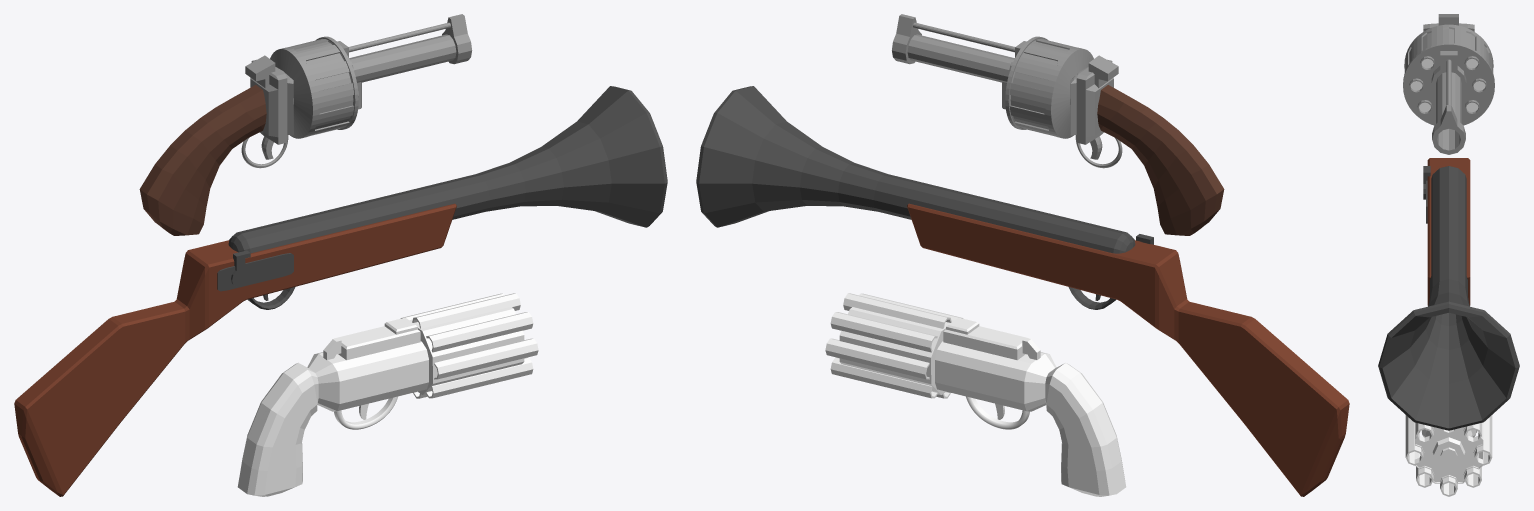
Rendered from antique-antique-firearms-set.glb.
3 views of the same model, side by side, from view 1: azimuth 30°, elevation 25°; view 2: azimuth 150°, elevation 25°; view 3: azimuth 270°, elevation 25° (orthographic). The views are drawn at different scales.
Parts seen in each view (by area): view 1: blunderbuss, revolver, revolver2; view 2: blunderbuss, revolver, revolver2; view 3: blunderbuss, revolver2, revolver.
Part boxes in pixels (bbox=[...]): blunderbuss: bbox=[14, 86, 667, 496]; revolver: bbox=[237, 293, 538, 496]; revolver2: bbox=[139, 14, 472, 235]; blunderbuss: bbox=[696, 86, 1349, 496]; revolver: bbox=[825, 293, 1126, 496]; revolver2: bbox=[892, 14, 1224, 235]; blunderbuss: bbox=[1378, 158, 1519, 430]; revolver2: bbox=[1403, 14, 1494, 154]; revolver: bbox=[1405, 415, 1492, 496].
Size of the model in its own units: 8.94 by 6.06 by 1.85.
